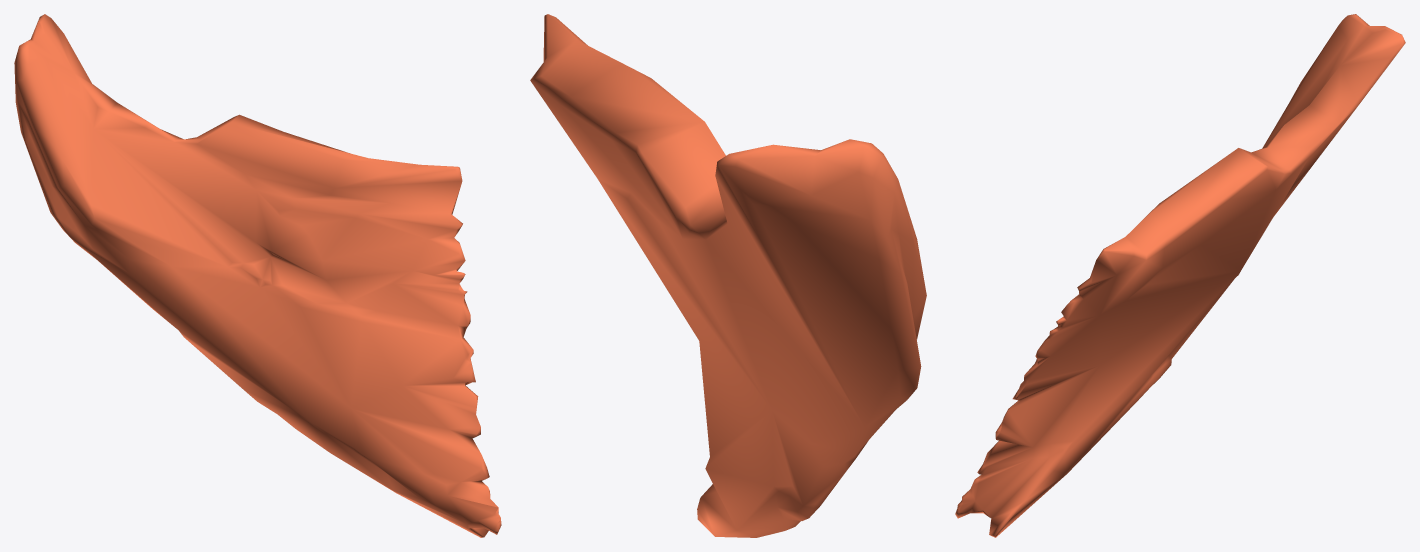
File: Inferior_head_of_lateral_pterygoid_muscle.r_Generated_Mesh_From.glb
3 renders of one model, left to right at view 1: azimuth 30°, elevation 25°; view 2: azimuth 150°, elevation 25°; view 3: azimuth 270°, elevation 25°, orthographic. The views are drawn at different scales.
Visible parts, largest first — view 1: Inferior_head_of_lateral_pterygoid_muscle.r_Generated_Mesh_F; view 2: Inferior_head_of_lateral_pterygoid_muscle.r_Generated_Mesh_F; view 3: Inferior_head_of_lateral_pterygoid_muscle.r_Generated_Mesh_F.
Part boxes in pixels (left/top/right/bottom): Inferior_head_of_lateral_pterygoid_muscle.r_Generated_Mesh_F: left=14, top=14, right=501, bottom=537; Inferior_head_of_lateral_pterygoid_muscle.r_Generated_Mesh_F: left=530, top=14, right=926, bottom=537; Inferior_head_of_lateral_pterygoid_muscle.r_Generated_Mesh_F: left=955, top=14, right=1405, bottom=537.
Size of the model in its own units: 0.0177 by 0.0225 by 0.0229.
